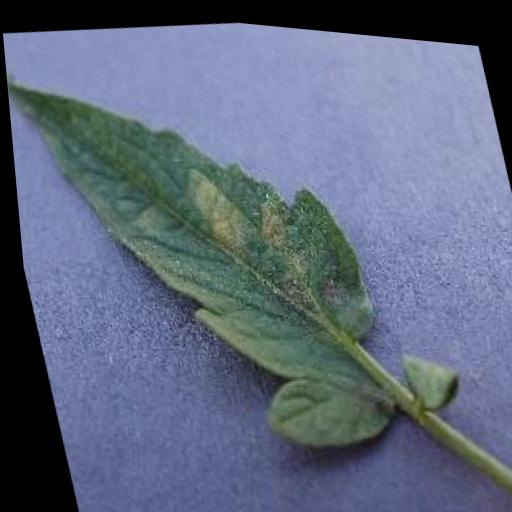Leaf Mold: (3, 41, 403, 480)
